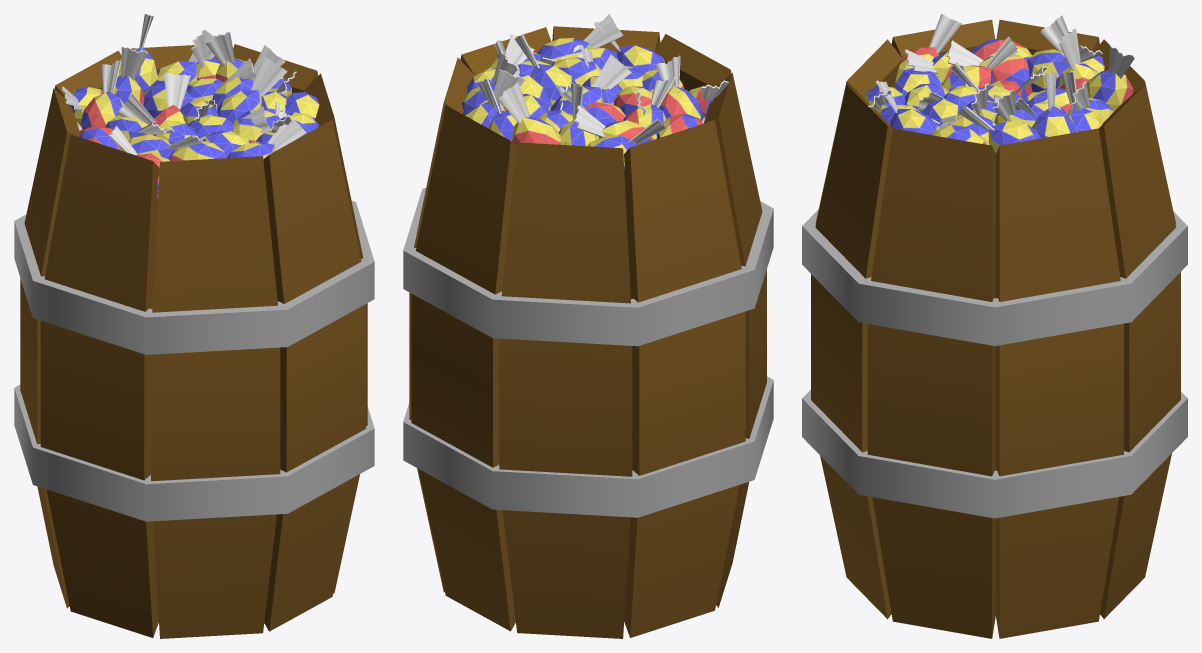
File: BarrelCandy.fbx
The picture shows the model from 3 angles, left to right: view 1: azimuth 30°, elevation 25°; view 2: azimuth 150°, elevation 25°; view 3: azimuth 270°, elevation 25°; orthographic projection. The views are drawn at different scales.
Parts seen in each view (by area): view 1: Cylinder001, Cylinder004, Cylinder005, GeoSphere001.001, GeoSphere001.022, GeoSphere001.011, GeoSphere001.006, Box001.022, GeoSphere001.013, GeoSphere001.021, Box002.009, GeoSphere001.027 (+16 smaller); view 2: Cylinder001, Cylinder004, Cylinder005, GeoSphere001.002, GeoSphere001.006, GeoSphere001.022, GeoSphere001.012, GeoSphere001.026, GeoSphere001.021, Box001.016, GeoSphere001.007, Box001.002 (+10 smaller); view 3: Cylinder001, Cylinder004, Cylinder005, GeoSphere001.002, GeoSphere001.001, GeoSphere001.025, GeoSphere001.005, GeoSphere001.024, GeoSphere001.026, GeoSphere001.007, GeoSphere001.011, Box002.010 (+7 smaller).
Part boxes in pixels (<box>): Cylinder001: <box>20,44,367,638</box>; Cylinder004: <box>14,200,374,354</box>; Cylinder005: <box>14,384,374,521</box>; GeoSphere001.001: <box>80,91,124,129</box>; GeoSphere001.022: <box>217,90,261,123</box>; GeoSphere001.011: <box>170,141,228,161</box>; GeoSphere001.006: <box>119,134,174,159</box>; Box001.022: <box>251,57,287,96</box>; GeoSphere001.013: <box>143,83,193,118</box>; GeoSphere001.021: <box>233,110,279,142</box>; Box002.009: <box>164,72,190,109</box>; GeoSphere001.027: <box>285,92,319,119</box>; Cylinder001: <box>409,26,766,638</box>; Cylinder004: <box>403,188,773,346</box>; Cylinder005: <box>403,376,773,517</box>; GeoSphere001.002: <box>511,117,561,145</box>; GeoSphere001.006: <box>659,86,703,120</box>; GeoSphere001.022: <box>531,64,576,105</box>; GeoSphere001.012: <box>616,45,664,73</box>; GeoSphere001.026: <box>537,37,590,60</box>; GeoSphere001.021: <box>551,56,601,85</box>; Box001.016: <box>592,54,631,89</box>; GeoSphere001.007: <box>613,86,652,115</box>; Box001.002: <box>497,82,529,124</box>; Cylinder001: <box>811,19,1180,638</box>; Cylinder004: <box>802,209,1187,345</box>; Cylinder005: <box>802,390,1187,518</box>; GeoSphere001.002: <box>1087,69,1133,111</box>; GeoSphere001.001: <box>1027,49,1069,92</box>; GeoSphere001.025: <box>988,121,1040,153</box>; GeoSphere001.005: <box>978,54,1032,94</box>; GeoSphere001.024: <box>1032,105,1076,138</box>; GeoSphere001.026: <box>889,109,938,134</box>; GeoSphere001.007: <box>941,65,994,91</box>; GeoSphere001.011: <box>894,70,942,96</box>; Box002.010: <box>929,14,961,53</box>.
Size of the model in its own units: 50.89 by 78.19 by 50.89.
